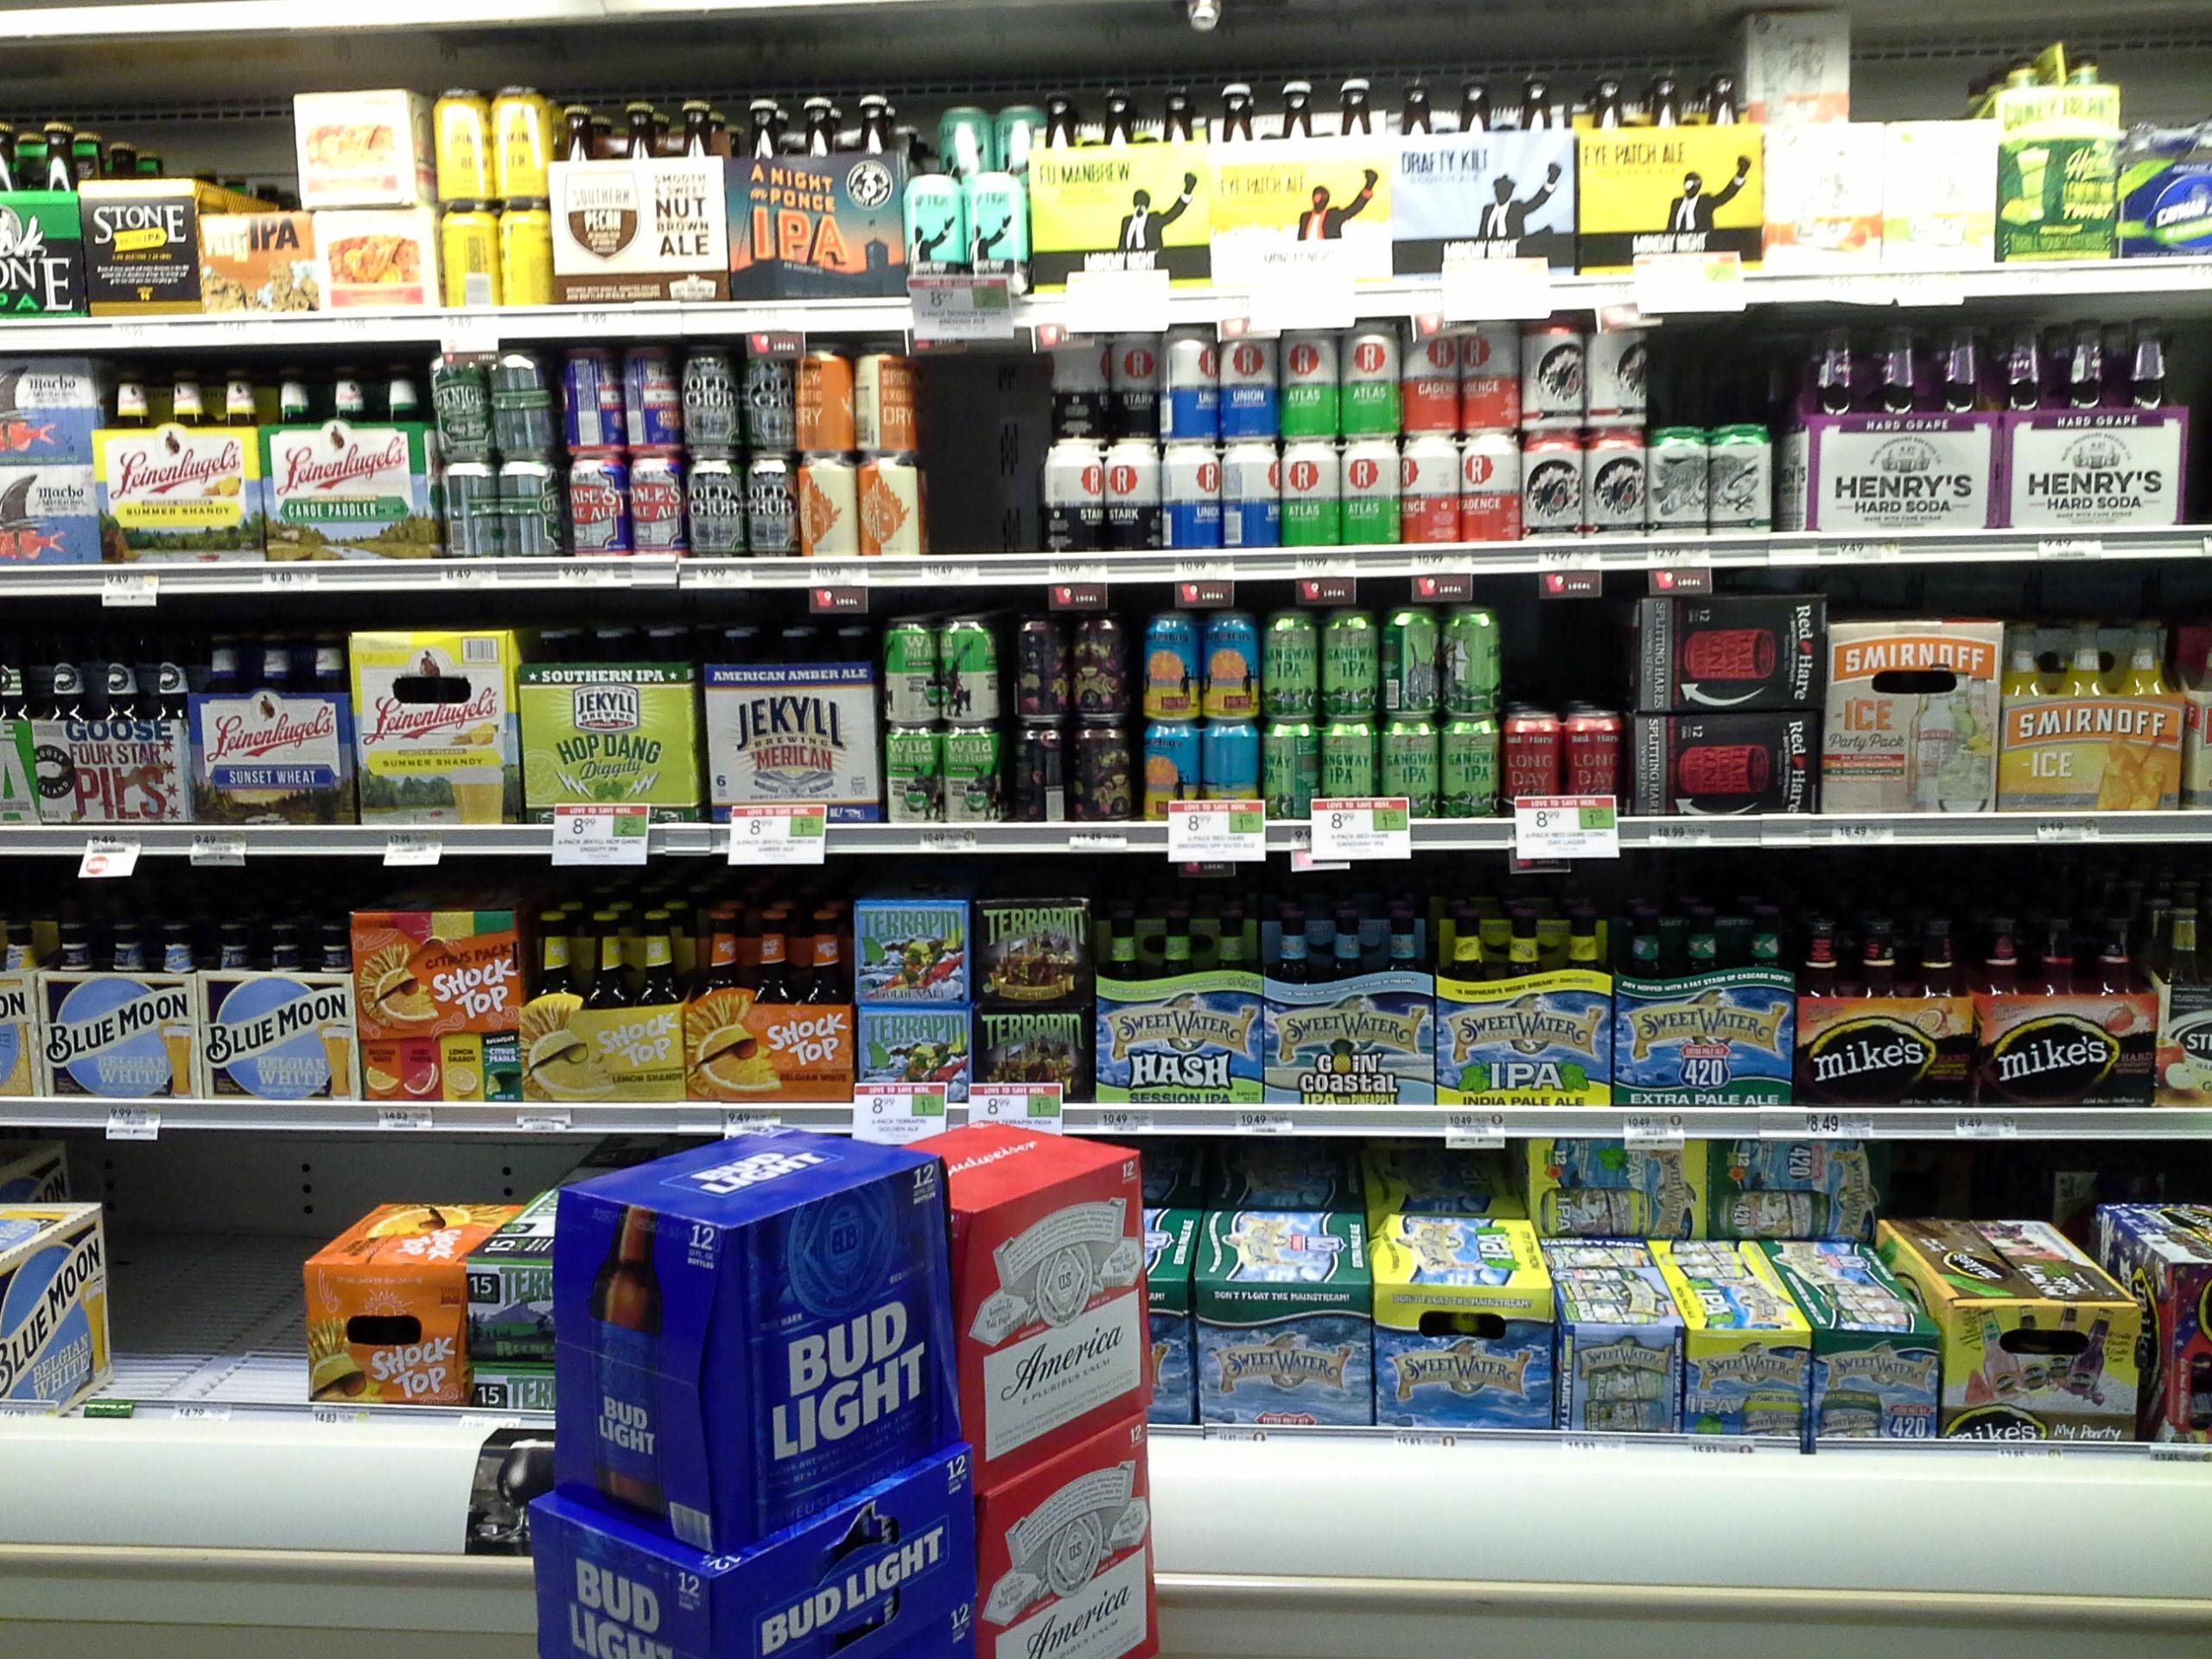empty: (110, 1190, 301, 1399), (939, 376, 1033, 552), (1500, 606, 1622, 711)
